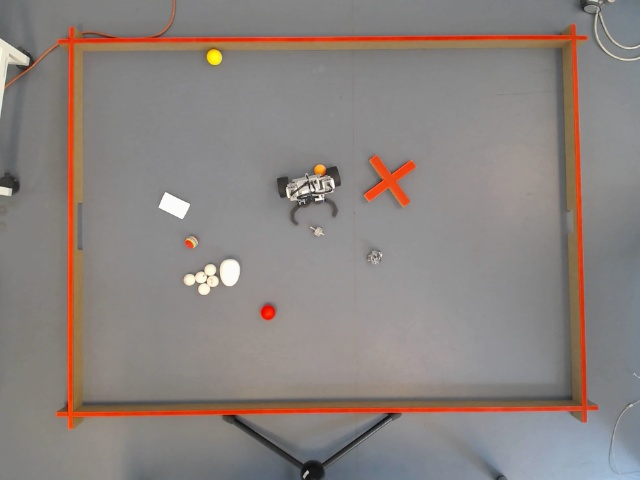big_goal: (67, 198, 86, 249)
cross: (360, 152, 418, 210)
egg: (218, 255, 241, 288)
orange: (314, 162, 324, 174)
robot: (275, 165, 342, 227)
small_goal: (561, 201, 578, 234)
wall: (552, 21, 588, 422), (56, 393, 601, 417), (52, 33, 587, 54), (64, 24, 86, 426)
white: (198, 282, 212, 296), (206, 273, 220, 287), (181, 272, 195, 285), (195, 270, 208, 282), (204, 264, 215, 275)
